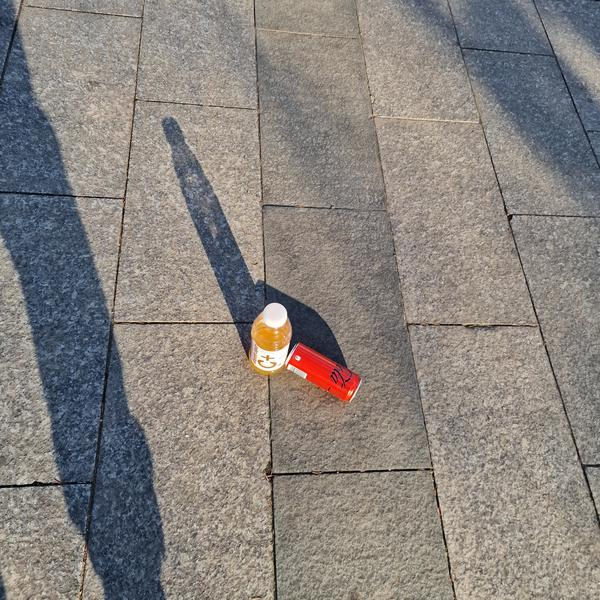can: (281, 338, 367, 406)
plastic_bottle: (241, 297, 300, 379)
